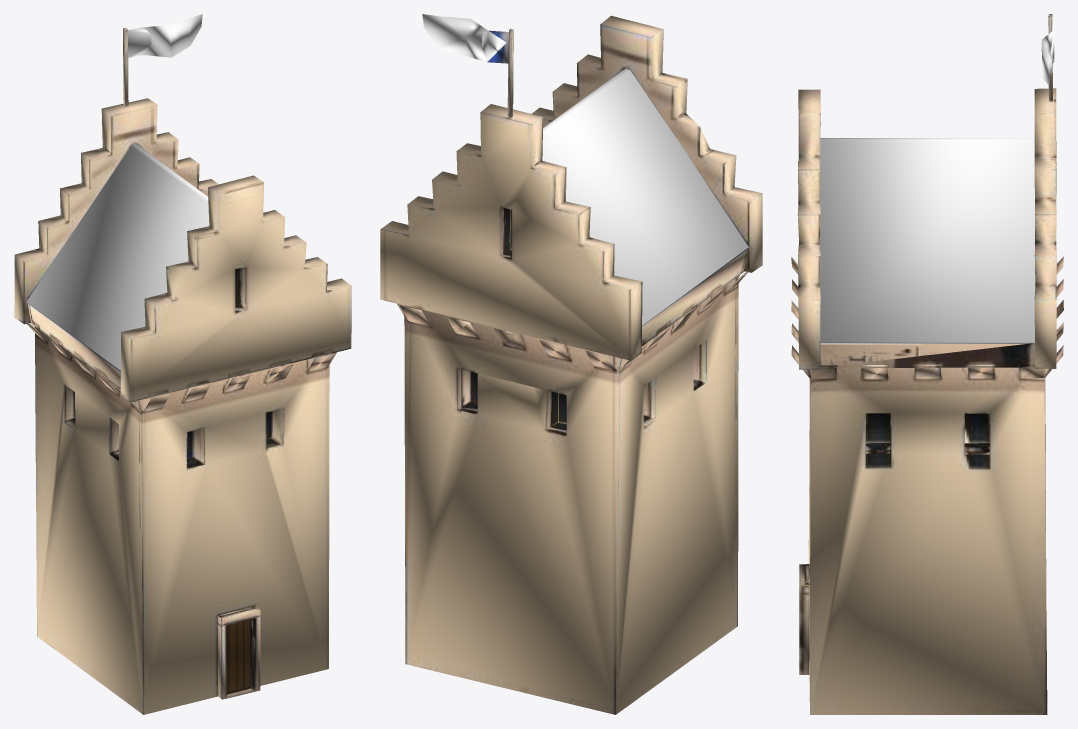
3 renders of one model, left to right at view 1: azimuth 30°, elevation 25°; view 2: azimuth 150°, elevation 25°; view 3: azimuth 270°, elevation 25°, orthographic. The views are drawn at different scales.
Visible parts, largest first — view 1: base; view 2: base; view 3: base.
Part boxes in pixels (bbox=[...]): base: bbox=[14, 14, 351, 714]; base: bbox=[380, 14, 762, 714]; base: bbox=[791, 14, 1063, 714].
Size of the model in its own units: 1.9 by 4.78 by 1.82.
Materials: 2 (1 with a texture image).
